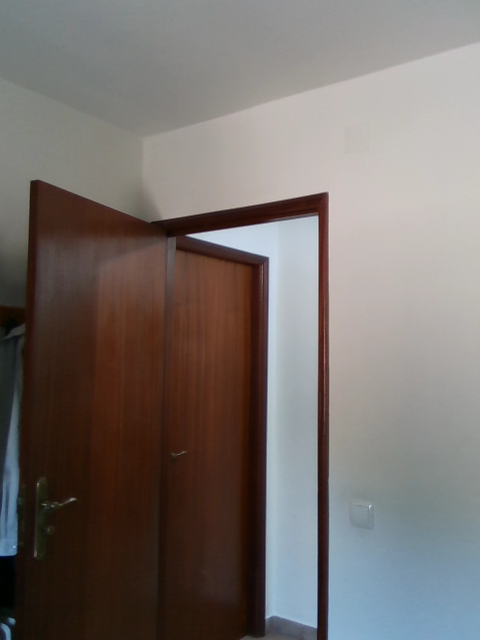open: (23, 181, 329, 639)
